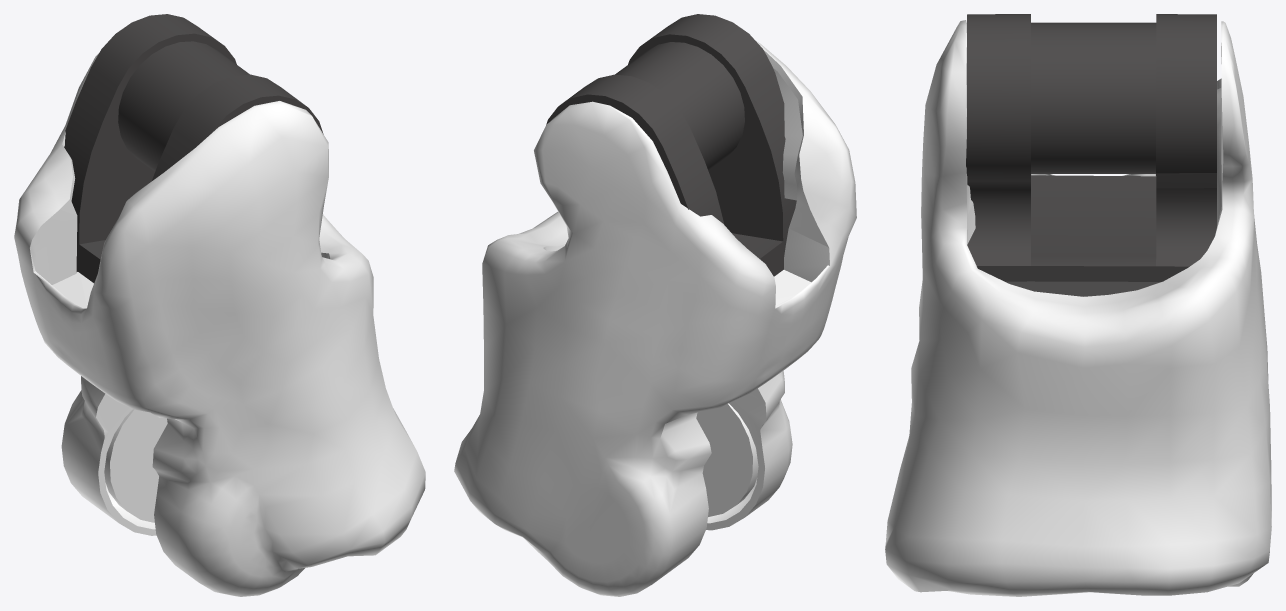
File: RHipPitch.dae
3 renders of one model, left to right at view 1: azimuth 30°, elevation 25°; view 2: azimuth 150°, elevation 25°; view 3: azimuth 270°, elevation 25°, orthographic. The views are drawn at different scales.
Visible parts, largest first — view 1: RHipPitch; view 2: RHipPitch; view 3: RHipPitch.
Part boxes in pixels (x1,y1,x2,y2): RHipPitch: (14, 14, 425, 596); RHipPitch: (454, 14, 856, 596); RHipPitch: (885, 14, 1271, 596).
Bounding box in the file's own units: 0.0959 × 0.0896 × 0.1429.
1 material, 1 textured.
